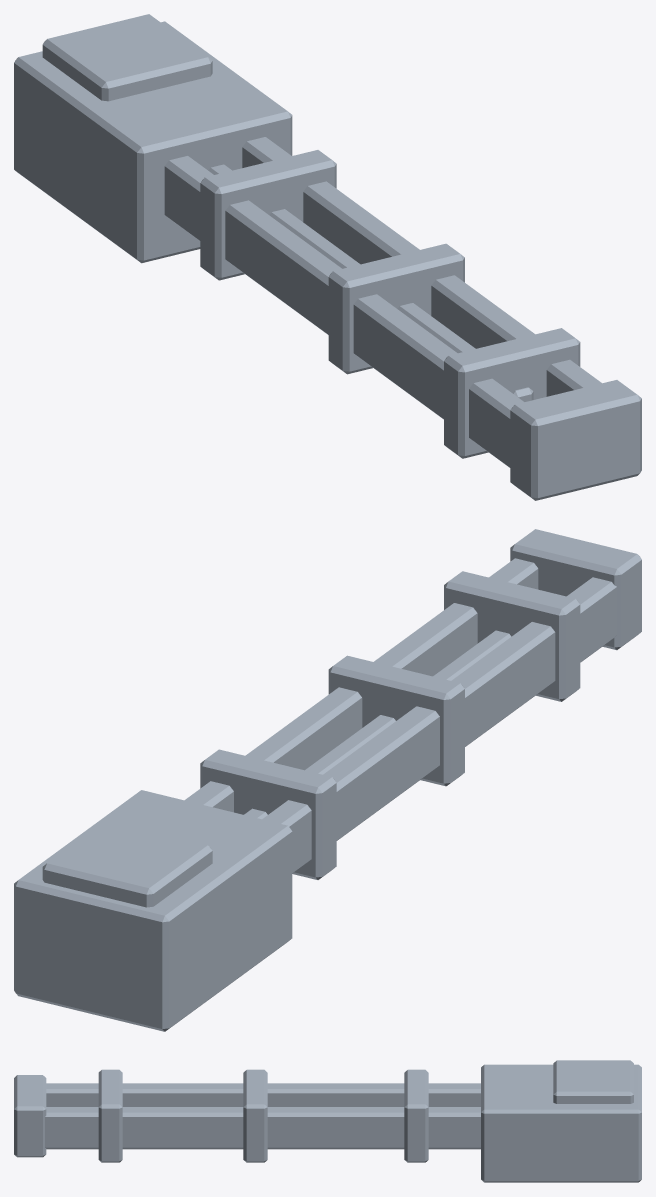
Rendered from Weapon_Rail.fbx.
3 renders of one model, top to bottom at view 1: azimuth 30°, elevation 25°; view 2: azimuth 150°, elevation 25°; view 3: azimuth 270°, elevation 25°, orthographic. The views are drawn at different scales.
Visible parts, largest first — view 1: Weapon_Rail; view 2: Weapon_Rail; view 3: Weapon_Rail.
Boxes of the visible parts, <box> form: Weapon_Rail: <box>14,14,641,500</box>; Weapon_Rail: <box>14,529,641,1031</box>; Weapon_Rail: <box>14,1060,641,1182</box>.
Size of the model in its own units: 14 by 11.5 by 78.
